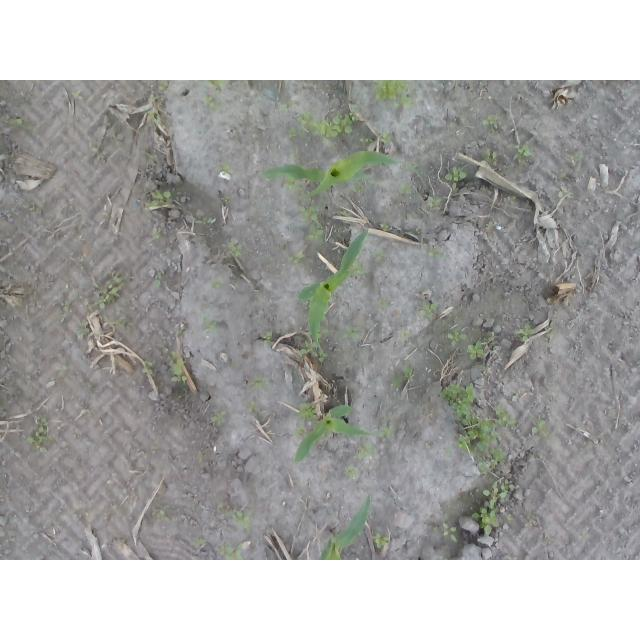Maize: (299, 229, 369, 356), (258, 150, 426, 199), (292, 404, 372, 465), (317, 496, 371, 561)
Weeds: (440, 381, 507, 475), (297, 108, 361, 144), (370, 81, 414, 108), (159, 344, 189, 382), (93, 272, 123, 308), (483, 479, 517, 509), (218, 504, 253, 532), (26, 418, 50, 454), (473, 508, 500, 537), (299, 341, 329, 364), (468, 337, 497, 360), (58, 291, 79, 322), (493, 403, 519, 427), (444, 167, 468, 190), (145, 189, 171, 209), (297, 403, 320, 424), (393, 365, 414, 387), (513, 144, 532, 167), (283, 174, 303, 195), (219, 544, 243, 560), (515, 323, 536, 341), (357, 441, 376, 460), (419, 301, 438, 320), (298, 205, 318, 223), (306, 224, 323, 245), (531, 419, 549, 438), (448, 329, 467, 347), (153, 506, 172, 523), (442, 523, 458, 542), (248, 377, 269, 391), (23, 200, 46, 212), (202, 316, 219, 332), (350, 260, 366, 276), (203, 96, 218, 113), (372, 533, 389, 548), (76, 321, 90, 339), (217, 162, 236, 175), (226, 241, 242, 256), (108, 315, 125, 329), (306, 329, 329, 339), (147, 109, 162, 124), (212, 410, 227, 425), (344, 465, 359, 480), (483, 149, 498, 164), (426, 196, 442, 210), (556, 186, 573, 199), (428, 245, 442, 260), (379, 425, 394, 439), (481, 115, 500, 126), (343, 326, 359, 339), (293, 423, 307, 437), (525, 510, 536, 527), (142, 360, 155, 374), (288, 253, 304, 264), (278, 101, 295, 111), (400, 182, 413, 195), (379, 130, 391, 144), (209, 80, 227, 89), (10, 118, 26, 128), (190, 537, 206, 547), (352, 181, 365, 193), (211, 277, 225, 288), (373, 249, 387, 260), (401, 328, 412, 340), (378, 299, 390, 310), (570, 154, 583, 164), (193, 218, 211, 225), (157, 80, 167, 92), (57, 364, 67, 376), (89, 142, 99, 154), (264, 332, 273, 345), (546, 326, 555, 339), (151, 229, 161, 240), (248, 402, 257, 413), (359, 138, 373, 145), (288, 126, 296, 138), (379, 223, 389, 232), (177, 328, 187, 337), (261, 254, 273, 261), (197, 451, 204, 463), (155, 278, 164, 287), (85, 380, 94, 389), (507, 196, 517, 204), (368, 179, 381, 185), (290, 150, 299, 158), (220, 195, 231, 201), (484, 367, 493, 374), (512, 389, 520, 396), (506, 515, 514, 522), (488, 221, 497, 227), (415, 229, 422, 236), (340, 211, 348, 217), (440, 556, 449, 561), (325, 430, 332, 436), (425, 443, 431, 450), (147, 153, 154, 159), (150, 445, 158, 450), (230, 132, 235, 138), (434, 527, 440, 532)
